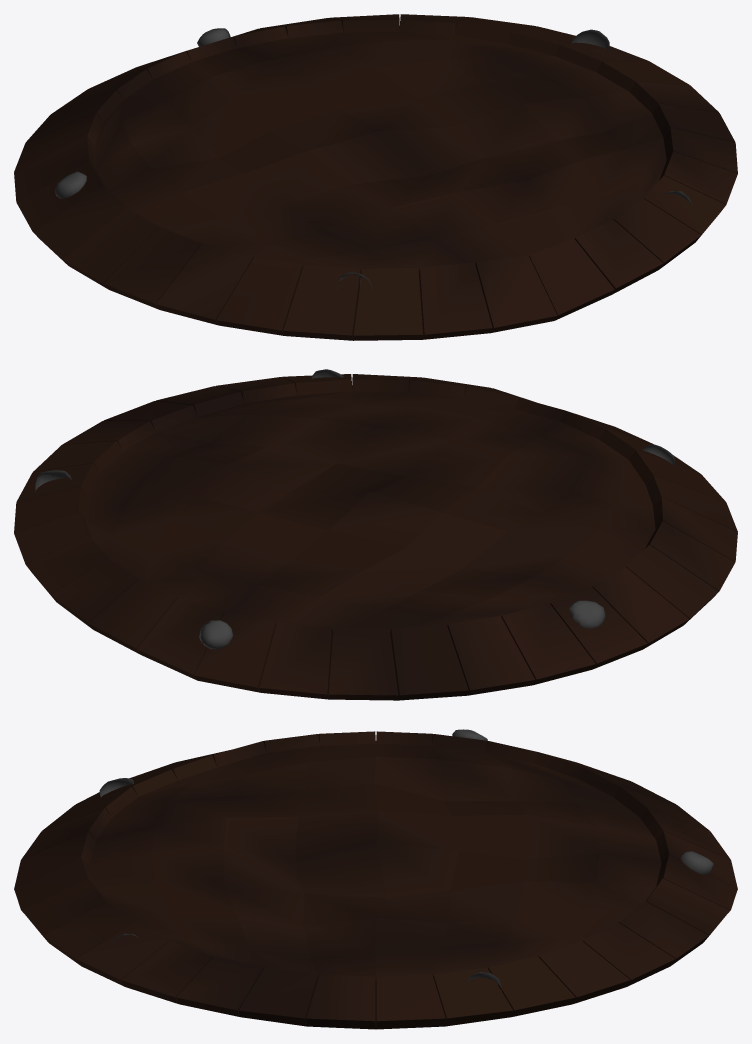
Rendered from shield1.fbx.
The picture shows the model from 3 angles, top to bottom: view 1: azimuth 30°, elevation 25°; view 2: azimuth 150°, elevation 25°; view 3: azimuth 270°, elevation 25°; orthographic projection.
Parts seen in each view (by area): view 1: shield; view 2: shield; view 3: shield.
Part boxes in pixels (bbox=[...]): shield: bbox=[14, 14, 737, 340]; shield: bbox=[14, 369, 737, 700]; shield: bbox=[14, 729, 737, 1029].
Size of the model in its own units: 204 by 18.13 by 204.
